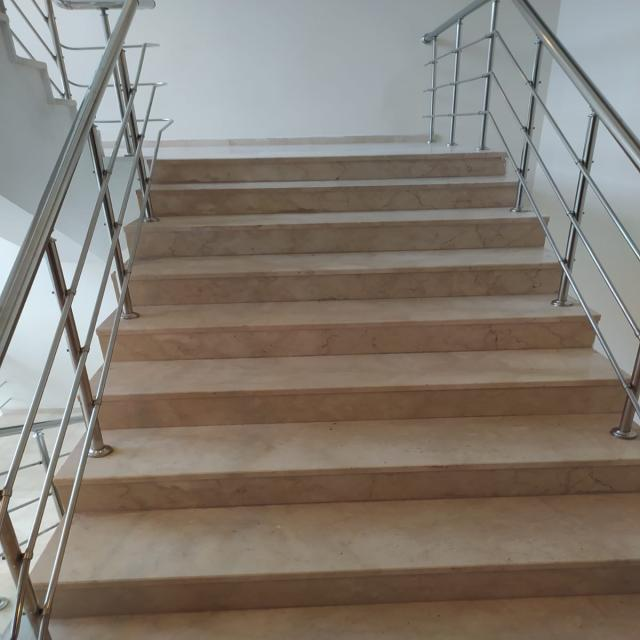upstair: (20, 152, 634, 640)
